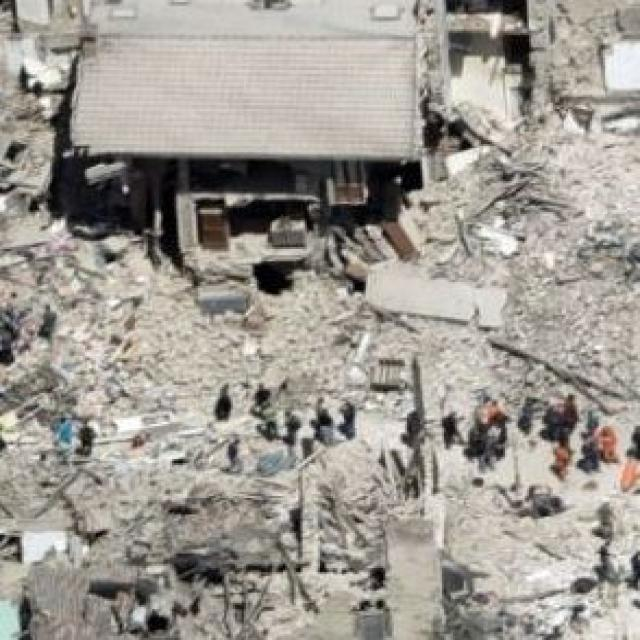collapsed_building: (4, 196, 363, 465), (433, 6, 638, 366)
